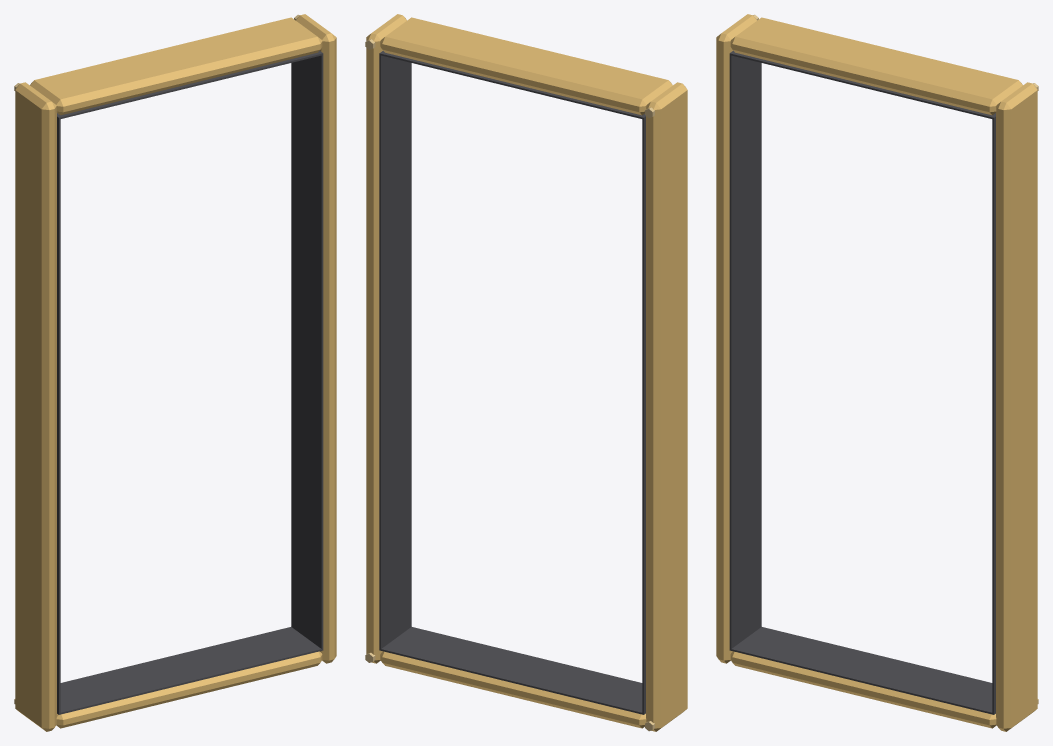
File: Bezel_1x2.fbx
3 views of the same model, side by side, from view 1: azimuth 30°, elevation 25°; view 2: azimuth 150°, elevation 25°; view 3: azimuth 330°, elevation 25° (orthographic).
Parts seen in each view (by area): view 1: Bezel_1x2; view 2: Bezel_1x2; view 3: Bezel_1x2.
Boxes of the visible parts, x1,y1,x2,y2 form: Bezel_1x2: [14, 14, 336, 731]; Bezel_1x2: [365, 14, 687, 731]; Bezel_1x2: [716, 14, 1038, 731].
Size of the model in its own units: 1.06 by 2.16 by 0.211.
